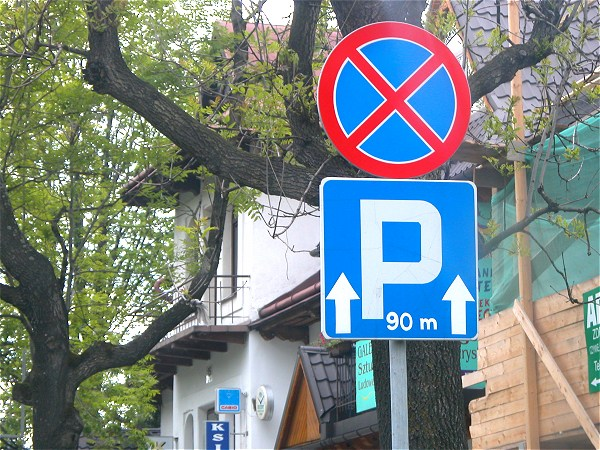no_stopping_sign: (317, 20, 473, 180)
